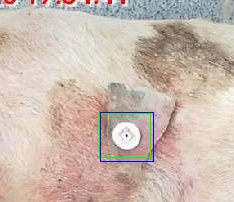text: (99, 113, 150, 157)
